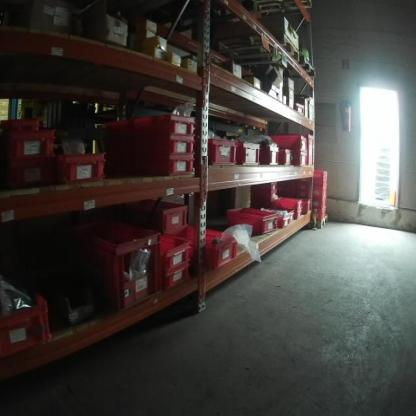pallet: (188, 34, 298, 72), (228, 54, 317, 92), (310, 210, 330, 228)
small_load_carrier: (73, 224, 162, 315), (3, 272, 52, 360), (102, 152, 197, 181), (187, 224, 243, 269), (1, 124, 59, 165), (122, 197, 191, 231), (100, 111, 199, 134), (226, 204, 280, 235), (102, 135, 199, 152), (54, 150, 105, 181), (158, 232, 193, 269), (159, 261, 192, 298), (208, 137, 237, 167), (268, 133, 309, 151), (238, 140, 262, 168), (259, 143, 280, 167), (273, 196, 304, 206), (289, 152, 308, 168), (277, 146, 291, 166), (308, 132, 314, 169), (280, 209, 290, 231), (317, 172, 329, 188), (302, 199, 313, 216), (315, 199, 328, 213), (291, 207, 302, 221), (315, 188, 329, 199)
